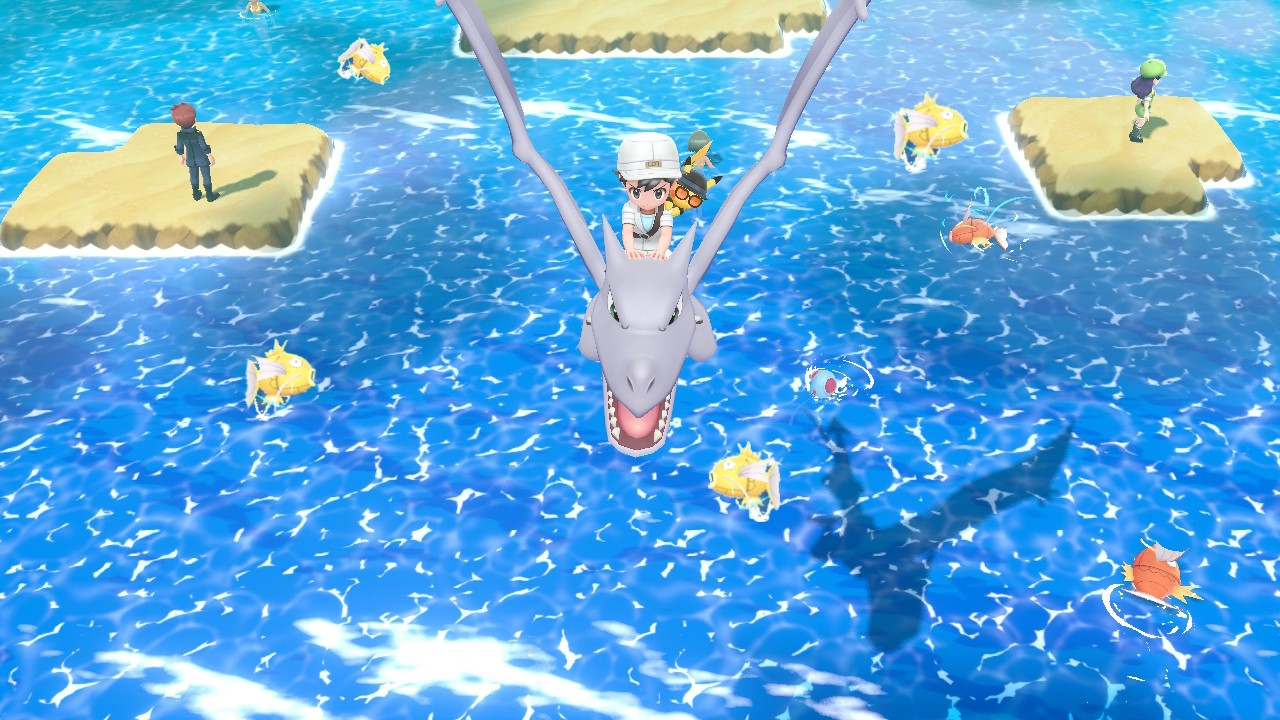Golden: (890, 94, 970, 171), (705, 437, 784, 512), (241, 340, 318, 411), (332, 37, 398, 87)
